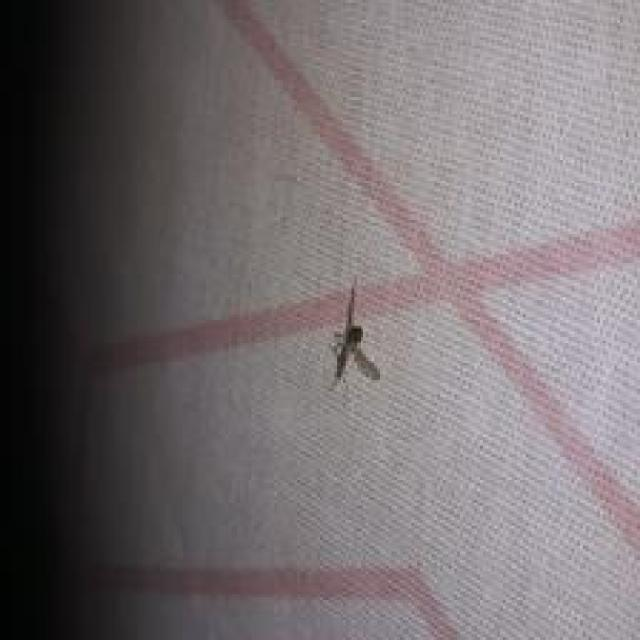Culex: (329, 283, 380, 386)
